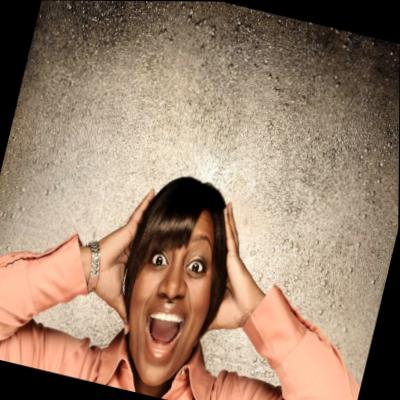happy: (105, 181, 237, 389)
